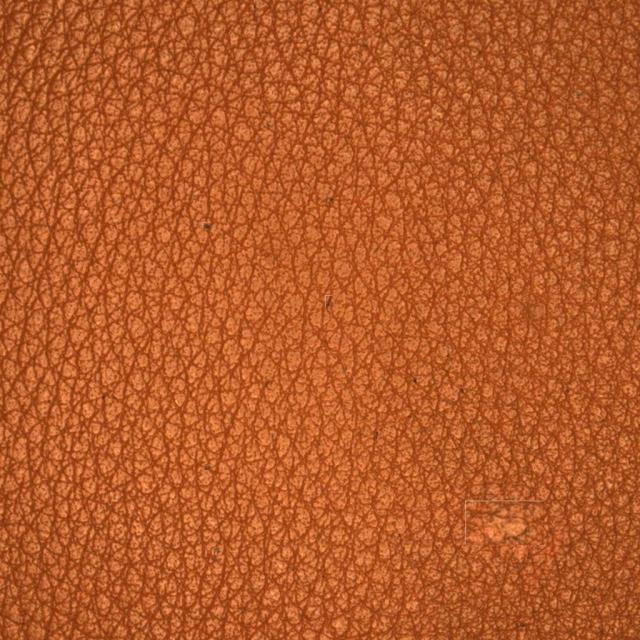Scratch: (417, 462, 596, 596)
pinhole: (138, 160, 282, 290)
